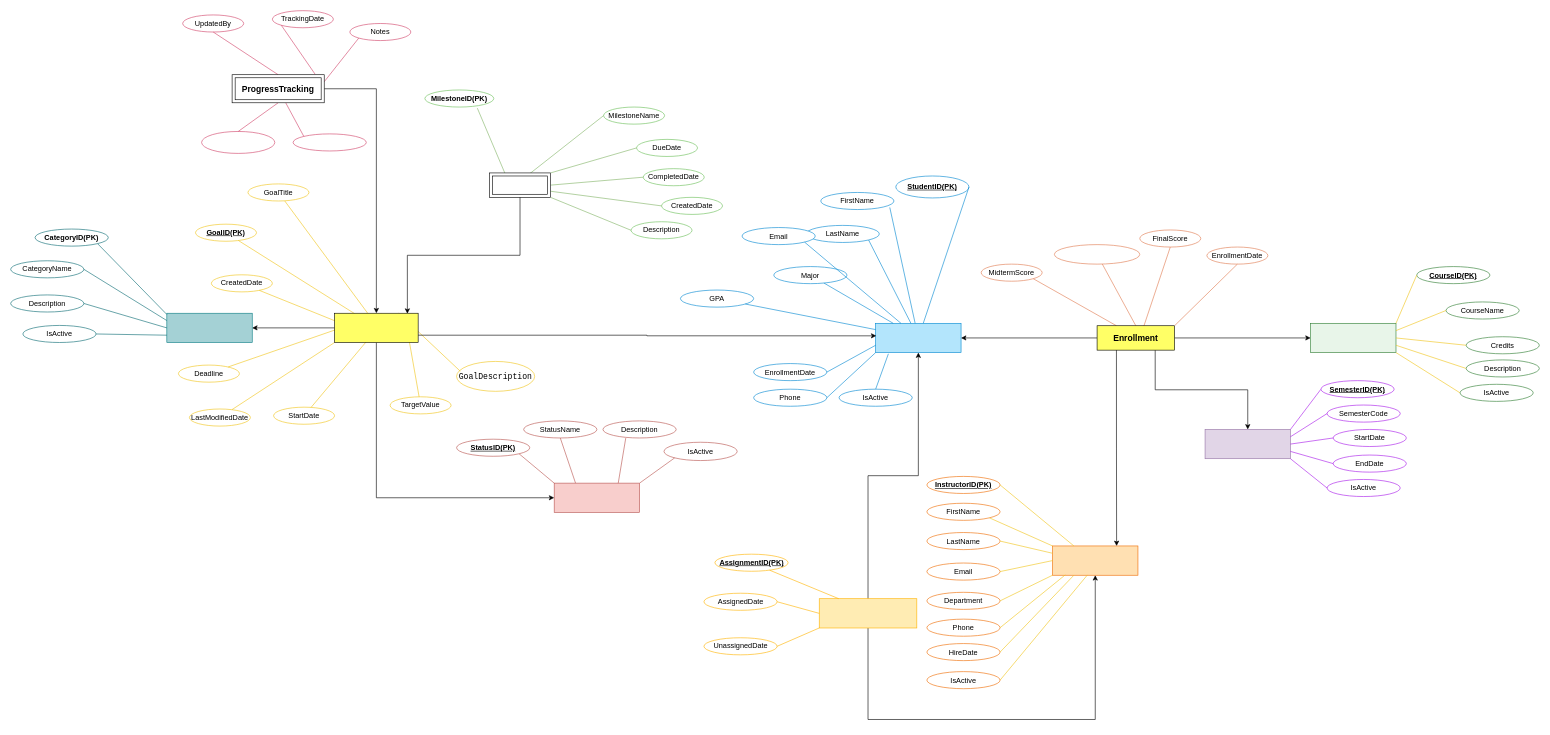
This 1550x735 diagram has some shape labels left out. Each missing label, with the box of its shape:
AdvisorAssignment: (819, 598, 917, 628)
COURSE: (1310, 323, 1396, 353)
EnrollmentID(PK): (1054, 244, 1140, 264)
GoalCategoryLookup: (166, 313, 252, 343)
GoalStatusLookup: (554, 483, 640, 512)
Instructor: (1052, 545, 1138, 575)
LearningGoal: (334, 313, 418, 343)
MileStone: (489, 172, 551, 197)
ProgressPercent: (292, 133, 366, 151)
SemesterLookup: (1204, 429, 1290, 459)
Student: (875, 323, 961, 353)
TrackingID(PK): (201, 131, 275, 153)
